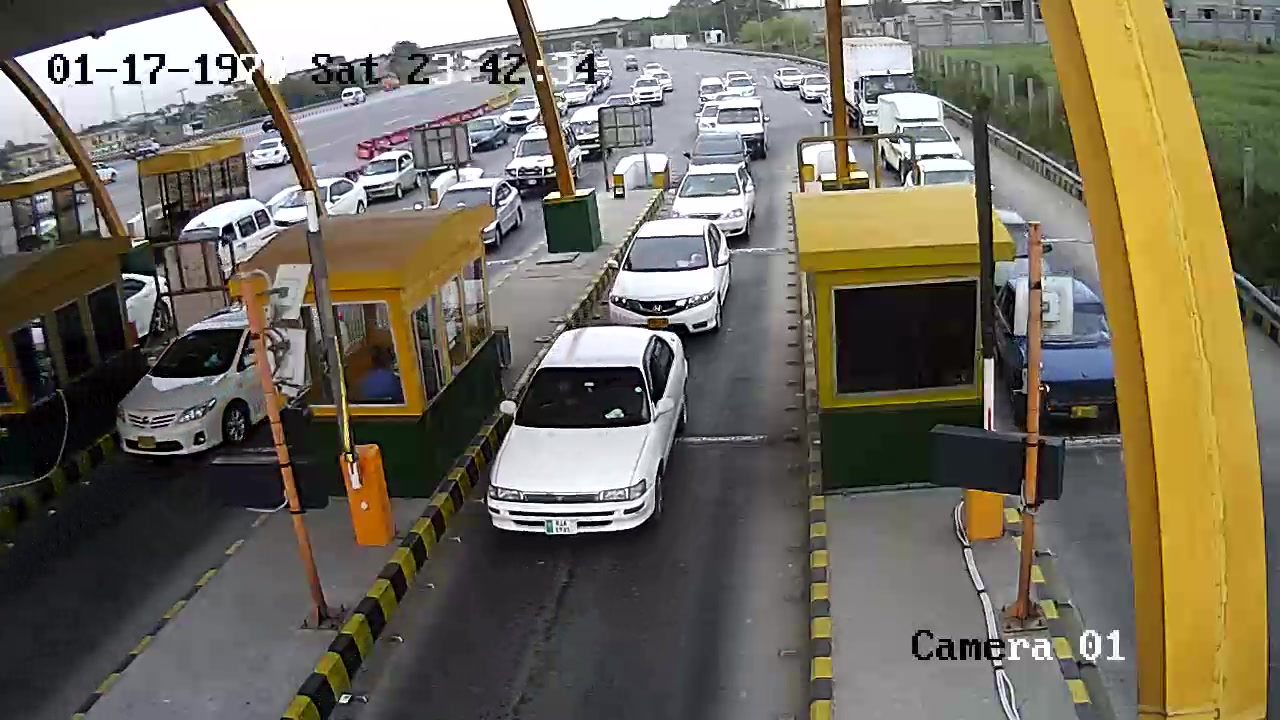F1: (477, 323, 705, 560)
